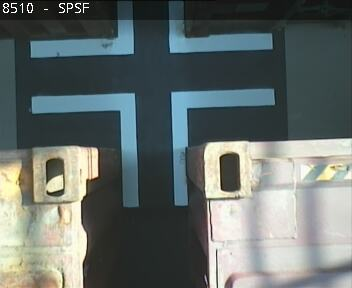groundmarker_1: (31, 89, 276, 206)
